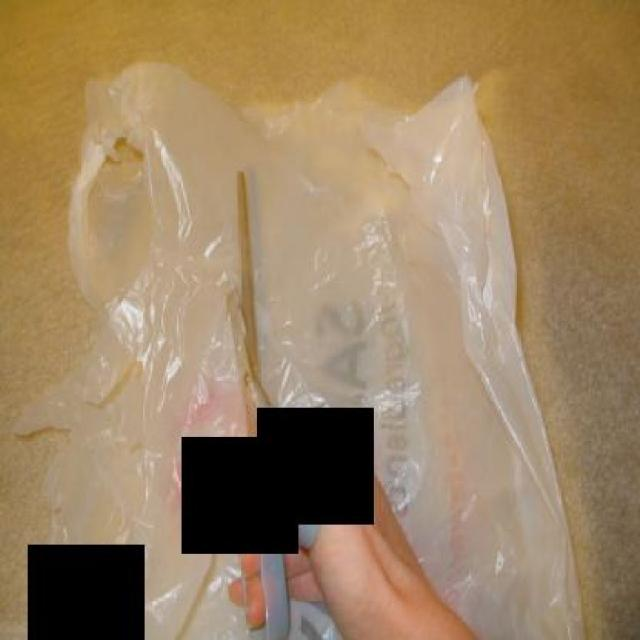plastic bag: (32, 54, 588, 637)
